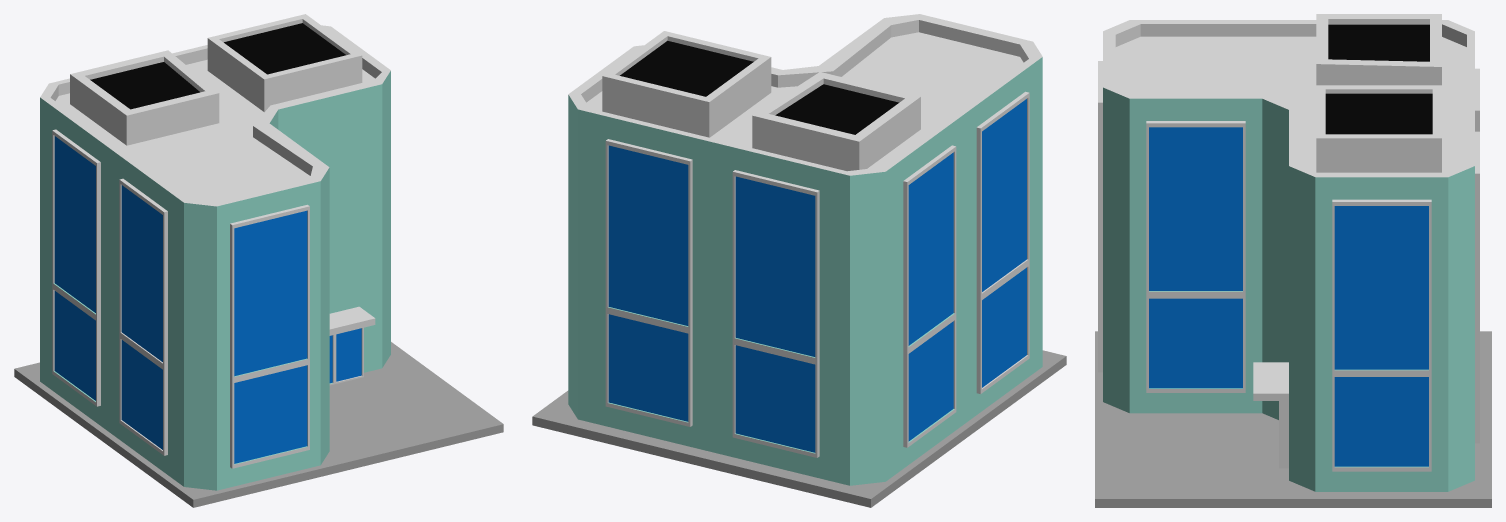
Rendered from Glass building.fbx.
3 views of the same model, side by side, from view 1: azimuth 30°, elevation 25°; view 2: azimuth 150°, elevation 25°; view 3: azimuth 270°, elevation 25° (orthographic). The views are drawn at different scales.
Visible parts, largest first — view 1: Glass building; view 2: Glass building; view 3: Glass building.
Part boxes in pixels (bbox=[...]): Glass building: bbox=[14, 14, 503, 507]; Glass building: bbox=[532, 14, 1066, 507]; Glass building: bbox=[1095, 14, 1491, 507].
Size of the model in its own units: 800 by 773 by 800.
